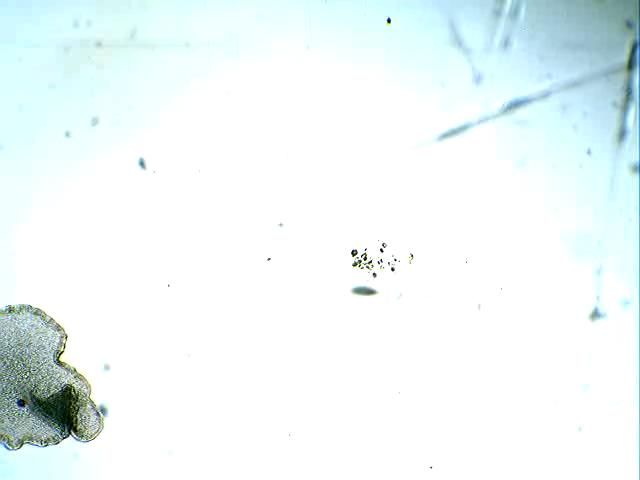Placozoan: (0, 303, 105, 450)
